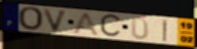0: (130, 16, 151, 41)
A: (71, 12, 101, 37)
C: (99, 13, 124, 39)
I: (162, 18, 169, 43)
O: (17, 6, 45, 32)
V: (43, 8, 70, 34)
